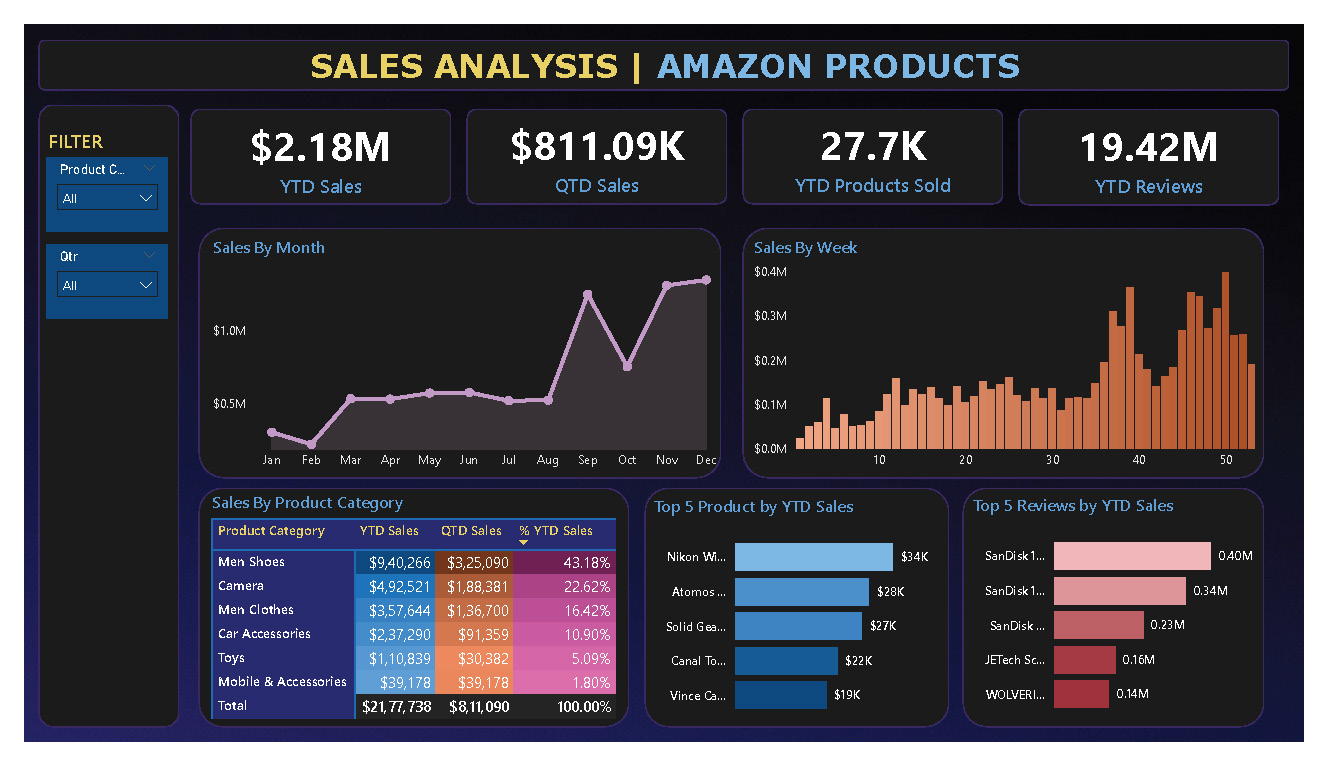

The dashboard page shown, as its layout file describes it:
{"tool":"powerbi","page":{"name":"Page 1","canvas":[1280,720],"ordinal":0},"visuals":[{"type":"shape","box":[995.1,84.9,260.1,95.7],"z":0},{"type":"shape","box":[719,84.7,260.1,95.7],"z":1000},{"type":"shape","box":[442.9,84.7,260.1,95.7],"z":2000},{"type":"shape","box":[166.9,84.7,260.1,95.7],"z":3000},{"type":"card","fields":{"Values":["Amazon_Data.YTD Reviews"]},"box":[995.1,85.9,260.1,94.5],"z":4000},{"type":"card","fields":{"Values":["Amazon_Data.YTD Products Sold"]},"box":[719,84.7,260.1,94.5],"z":5000},{"type":"card","fields":{"Values":["Amazon_Data.QTD Sales"]},"box":[442.9,84.7,260.1,94.5],"z":6000},{"type":"card","fields":{"Values":["Amazon_Data.YTD Sales"]},"box":[166.9,85.9,260.1,94.5],"z":7000},{"type":"shape","box":[14.7,15.9,1250.3,50.3],"z":8000},{"type":"textbox","box":[265,17.2,752.1,50.3],"z":9000},{"type":"shape","box":[14.7,81,139.9,622.1],"z":10000},{"type":"shape","box":[175.5,203.7,521.5,250.3],"z":11000},{"type":"areaChart","title":"Sales By Month","fields":{"Category":["Date Table.Month Name"],"Y":["Sum(Amazon_Data.Price(Dollar))"]},"box":[184.1,212.3,519,241.7],"z":12000},{"type":"shape","box":[719,203.7,521.5,250.3],"z":13000},{"type":"columnChart","title":"Sales By Week","fields":{"Category":["Date Table.Week Number"],"Y":["Sum(Amazon_Data.Price(Dollar))"]},"box":[725.2,212.3,515.3,241.7],"z":14000},{"type":"shape","box":[175.5,463.8,429.4,239.3],"z":15000},{"type":"pivotTable","title":"Sales By Product Category","fields":{"Rows":["Amazon_Data.Product Category"],"Values":["Amazon_Data.YTD Sales1","Amazon_Data.QTD Sales","Amazon_Data.YTD Sales"]},"box":[182.8,467.5,418.4,231.9],"z":16000},{"type":"shape","box":[620.9,463.8,304.3,239.3],"z":17000},{"type":"shape","box":[938.7,463.8,301.8,239.3],"z":18000},{"type":"clusteredBarChart","title":"Top 5 Product by YTD Sales","fields":{"Category":["Amazon_Data.Product Description"],"Y":["Amazon_Data.YTD Sales"]},"box":[624.5,471.2,296.9,233.1],"z":19000},{"type":"clusteredBarChart","title":"Top 5 Reviews by YTD Sales","fields":{"Category":["Amazon_Data.Product Description"],"Y":["Amazon_Data.YTD Reviews"]},"box":[943.6,469.9,296.9,233.1],"z":20000},{"type":"textbox","box":[11,99.4,81,38],"z":21000},{"type":"slicer","fields":{"Values":["Amazon_Data.Product Category"]},"box":[23.3,132.5,121.5,73.7],"z":21000,"group":"g1"},{"type":"group","id":"g1","title":"Group 1","box":[23.3,132.5,121.5,160.7],"z":22000},{"type":"slicer","fields":{"Values":["Date Table.Qtr"]},"box":[23.3,219.5,121.5,73.7],"z":22000,"group":"g1"}]}

Visuals, with their boxes in screenshot pixels (x1, y1, x2, y2), scaled from the page's 1280x720 canvas onto the 1328x768 screenshot:
shape: l=1032, t=91, r=1302, b=193
shape: l=746, t=90, r=1016, b=192
shape: l=460, t=90, r=729, b=192
shape: l=173, t=90, r=443, b=192
card - Amazon_Data.YTD Reviews: l=1032, t=92, r=1302, b=192
card - Amazon_Data.YTD Products Sold: l=746, t=90, r=1016, b=191
card - Amazon_Data.QTD Sales: l=460, t=90, r=729, b=191
card - Amazon_Data.YTD Sales: l=173, t=92, r=443, b=192
shape: l=15, t=17, r=1312, b=71
textbox: l=275, t=18, r=1055, b=72
shape: l=15, t=86, r=160, b=750
shape: l=182, t=217, r=723, b=484
"Sales By Month" areaChart: l=191, t=226, r=729, b=484
shape: l=746, t=217, r=1287, b=484
"Sales By Week" columnChart: l=752, t=226, r=1287, b=484
shape: l=182, t=495, r=628, b=750
"Sales By Product Category" pivotTable: l=190, t=499, r=624, b=746
shape: l=644, t=495, r=960, b=750
shape: l=974, t=495, r=1287, b=750
"Top 5 Product by YTD Sales" clusteredBarChart: l=648, t=503, r=956, b=751
"Top 5 Reviews by YTD Sales" clusteredBarChart: l=979, t=501, r=1287, b=750
textbox: l=11, t=106, r=95, b=147
slicer - Amazon_Data.Product Category: l=24, t=141, r=150, b=220
"Group 1" group: l=24, t=141, r=150, b=313
slicer - Date Table.Qtr: l=24, t=234, r=150, b=313
